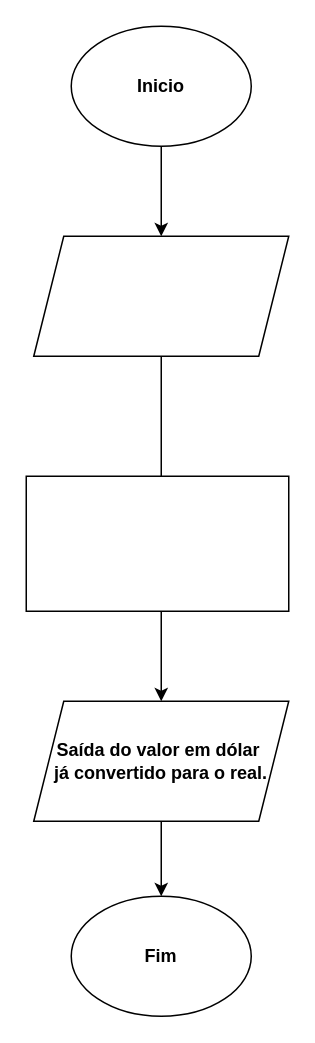
Image size: 315x1043. Some labels were removed from this diagram. The box of each missing label's shape, as (x1, y1, x2, y2) in pixels:
Entrada de um valor em dólar para conversão.: (32, 235, 289, 356)
Multiplicação da quantia em dólar pela cotação do real estabelecida de R$4,95.: (25, 475, 289, 611)
